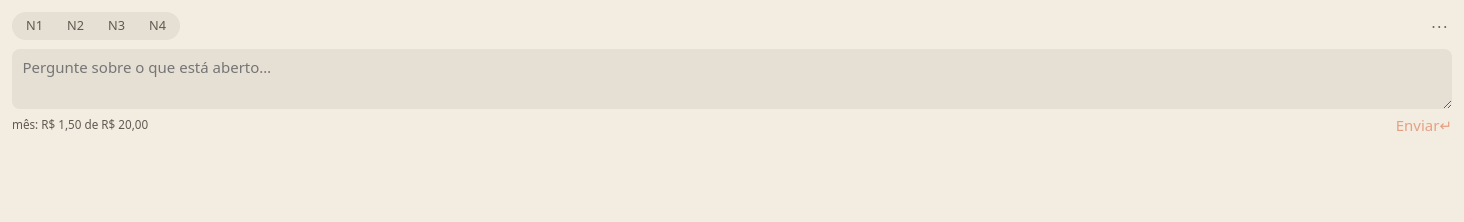
it: com outra ação depois, Desfazer vira Abrir o Histórico
Click the button named "N4 Resolução": (158,26) [137, 14, 178, 38]
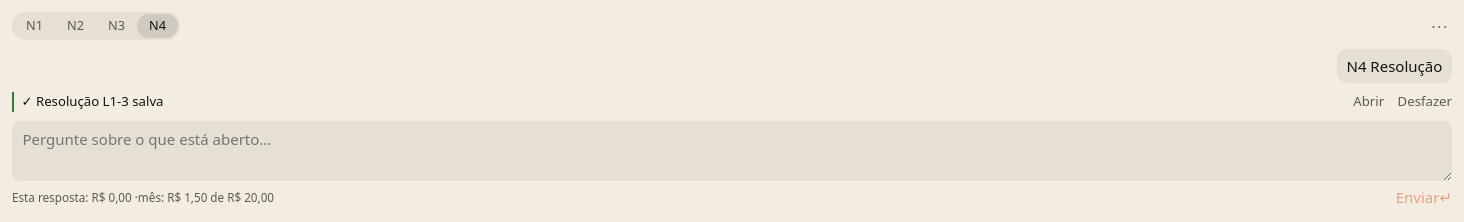
Click the button "Desfazer": (1425,102) [1398, 92, 1452, 112]
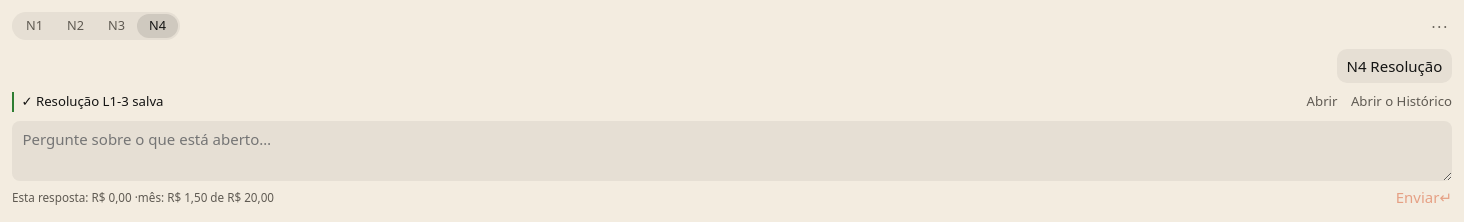
Check: the link "Abrir o Histórico" is shown, box [1351, 92, 1452, 112]
